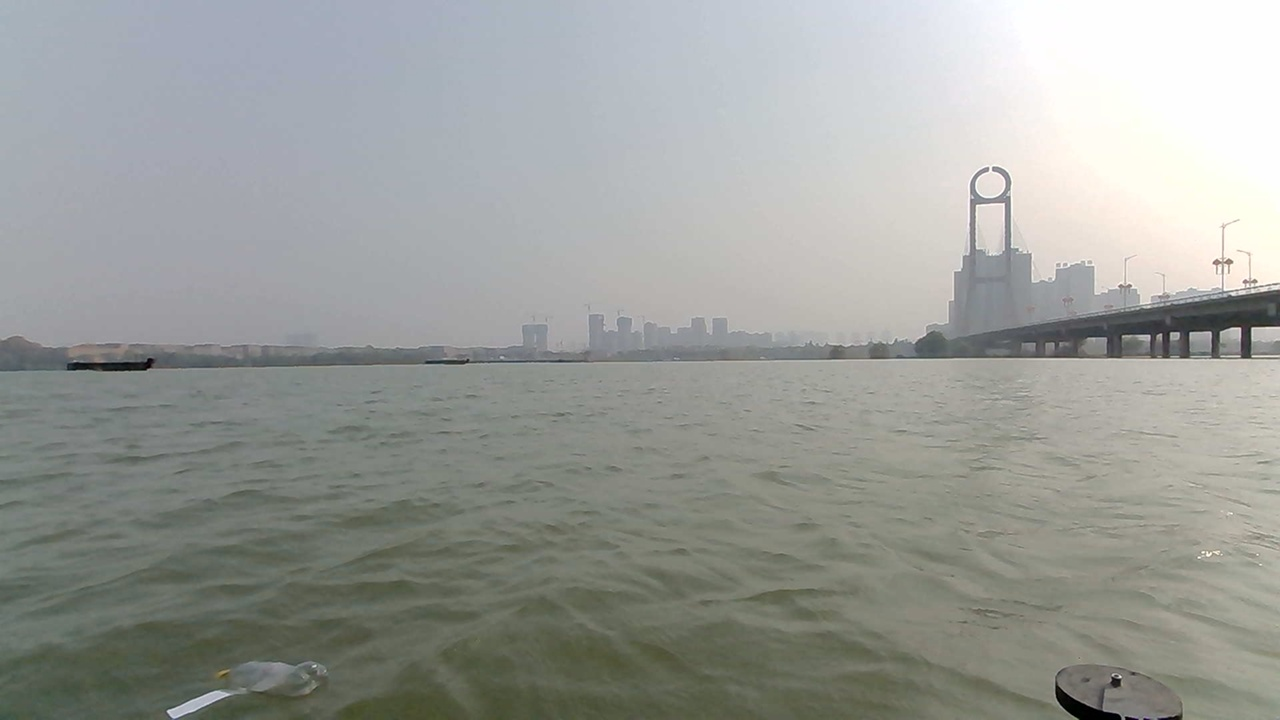bottle: (172, 644, 337, 719)
